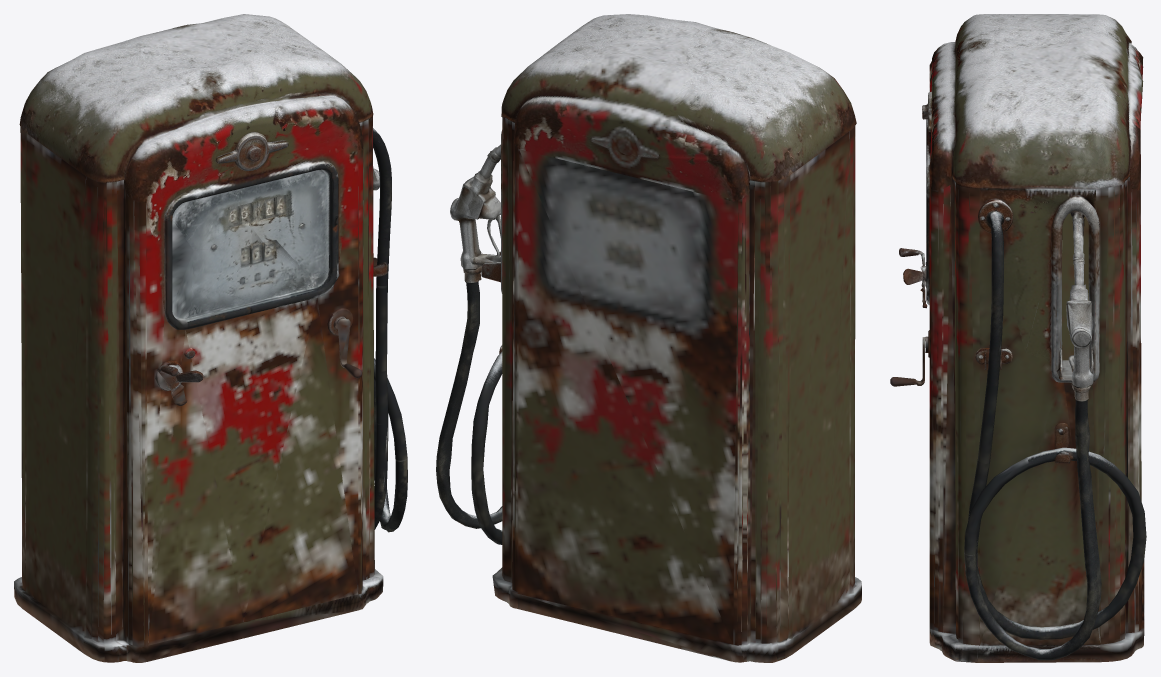
The model's file is road_fuel_pump.glb.
The picture shows the model from 3 angles, left to right: view 1: azimuth 30°, elevation 25°; view 2: azimuth 150°, elevation 25°; view 3: azimuth 270°, elevation 25°; orthographic projection.
Size of the model in its own units: 0.6484 by 0.9517 by 0.4062.
Materials: 1 (1 with a texture image).
